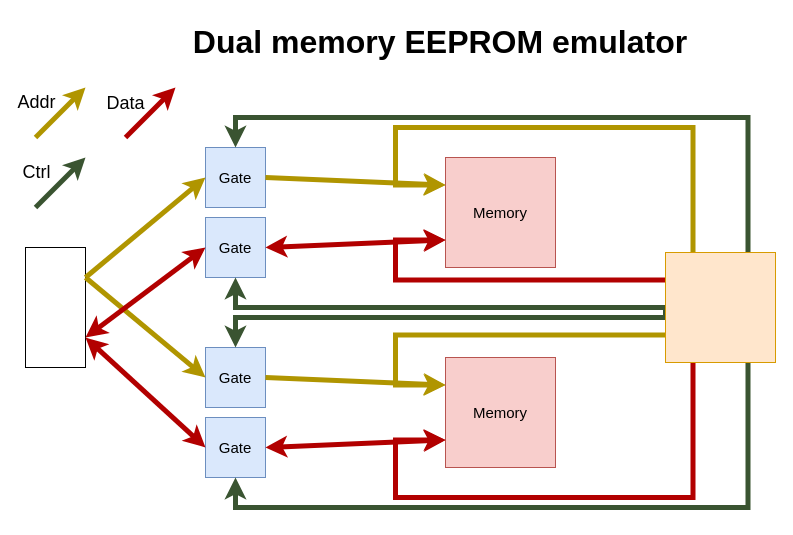
This 793x535 diagram has some shape labels left out. Each missing label, with the centre of its shape:
EEPROM Connector: [55,307]
MCU: [720,307]
